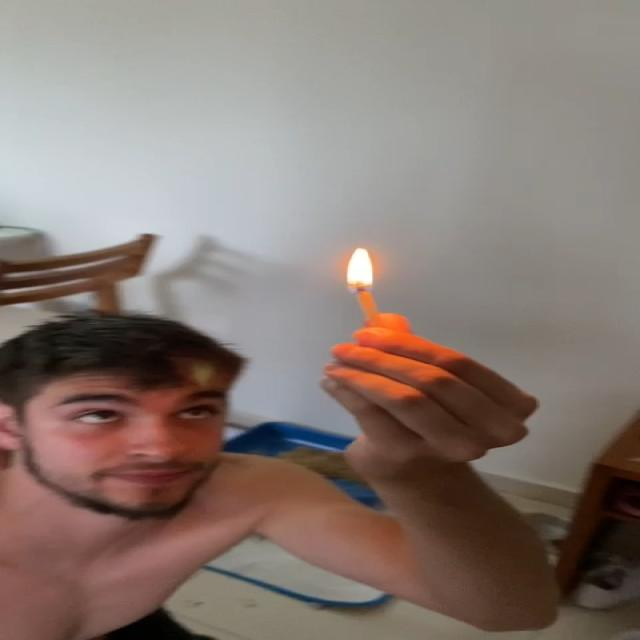fogo-ypXI: (346, 245, 375, 295)
